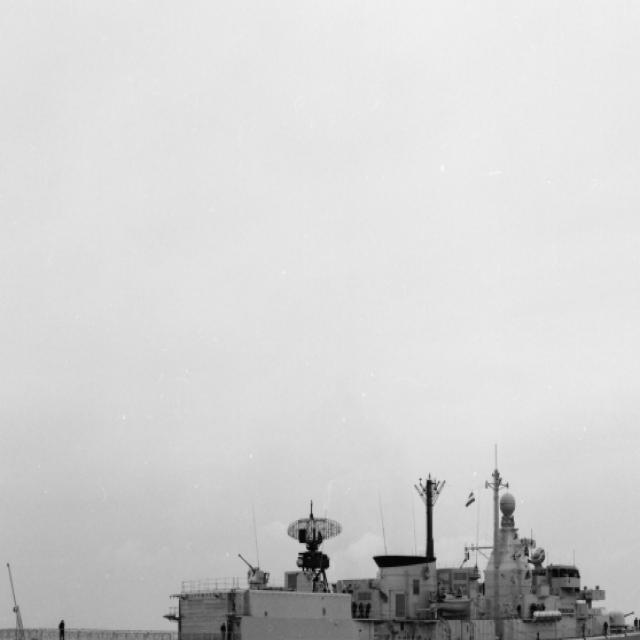Fragata: (1, 435, 640, 640)
